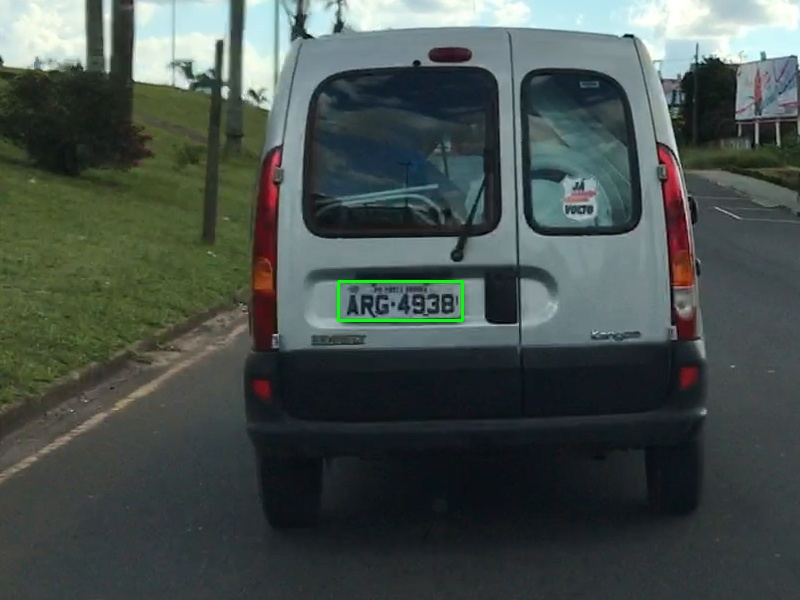placa: (338, 281, 462, 320)
